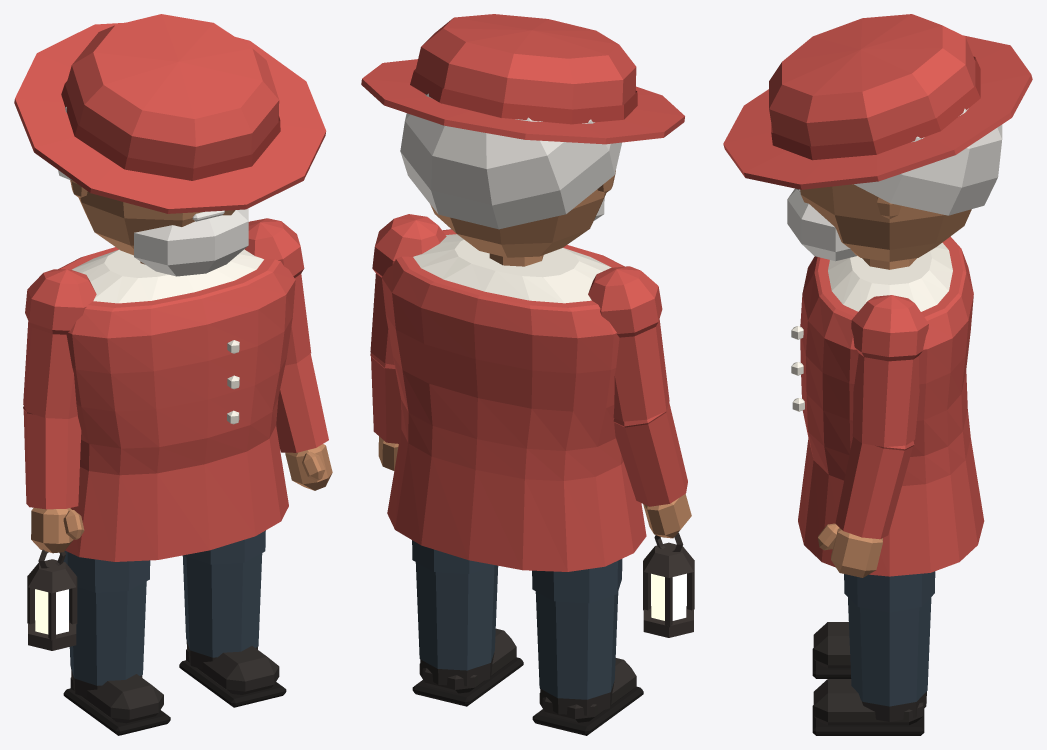
File: pel-n2.glb
3 views of the same model, side by side, from view 1: azimuth 30°, elevation 25°; view 2: azimuth 150°, elevation 25°; view 3: azimuth 270°, elevation 25° (orthographic). The views are drawn at different scales.
Parts seen in each view (by area): view 1: mantel, kopfbedeckung, arm_r, bein_r, bein_l, arm_l, bart, torso, gegenstand_lantern, schuh_r, schuh_l, kopf (+2 smaller); view 2: mantel, kopfbedeckung, haare, arm_r, bein_r, bein_l, torso, arm_l, kopf, gegenstand_lantern, schuh_r, schuh_l (+1 smaller); view 3: kopfbedeckung, mantel, arm_l, bein_l, kopf, haare, torso, schuh_l, bart, hand_l, schuh_r.
Boxes of the visible parts, box(x1,y1,x2,y2) form: mantel: box(58, 247, 295, 561); kopfbedeckung: box(14, 14, 326, 213); arm_r: box(23, 269, 96, 509); bein_r: box(63, 550, 150, 685); bein_l: box(182, 530, 265, 657); arm_l: box(244, 218, 328, 452); bart: box(134, 208, 248, 276); torso: box(72, 249, 263, 303); gegenstand_lantern: box(27, 549, 77, 650); schuh_r: box(63, 668, 170, 735); schuh_l: box(179, 641, 286, 707); kopf: box(70, 180, 235, 255); mantel: box(382, 229, 646, 571); kopfbedeckung: box(361, 14, 684, 144); haare: box(400, 93, 621, 229); arm_r: box(588, 266, 687, 506); bein_r: box(532, 559, 622, 699); bein_l: box(412, 540, 498, 670); torso: box(413, 234, 611, 303); arm_l: box(370, 214, 446, 443); kopf: box(430, 170, 615, 257); gegenstand_lantern: box(643, 532, 694, 637); schuh_r: box(532, 658, 643, 735); schuh_l: box(412, 628, 523, 706); kopfbedeckung: box(723, 14, 1032, 189); mantel: box(798, 236, 984, 576); arm_l: box(835, 295, 928, 539); bein_l: box(844, 571, 935, 706); kopf: box(800, 184, 971, 261); haare: box(854, 108, 1002, 215); torso: box(828, 242, 952, 311); schuh_l: box(812, 679, 926, 735); bart: box(787, 188, 856, 261); hand_l: box(818, 523, 882, 577); schuh_r: box(812, 622, 851, 678).
Bounding box in the file's own units: 0.0123 × 0.0252 × 0.0107.
